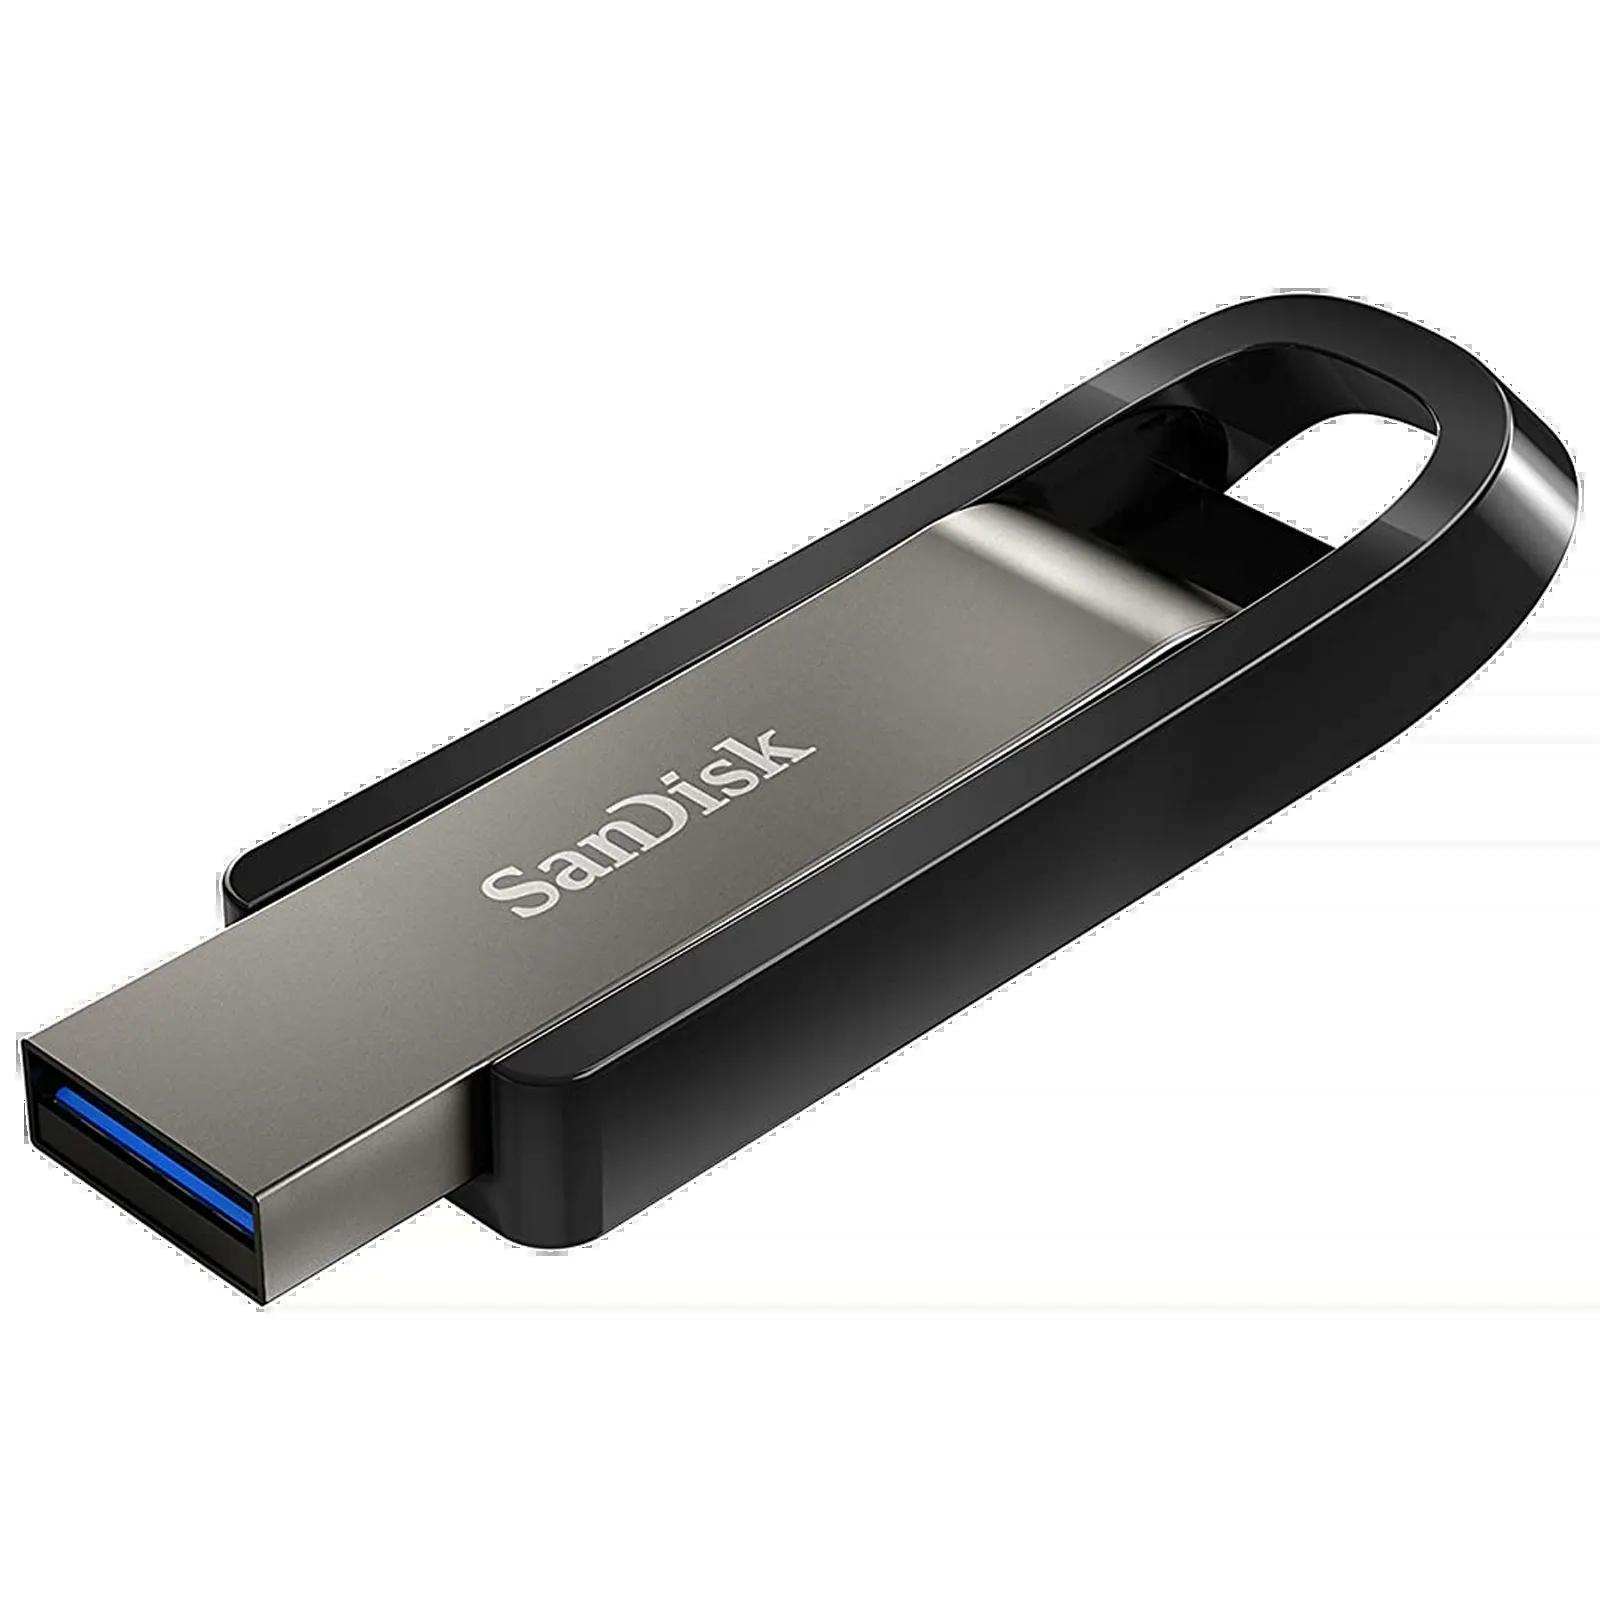pendrive: (22, 270, 1572, 1402)
